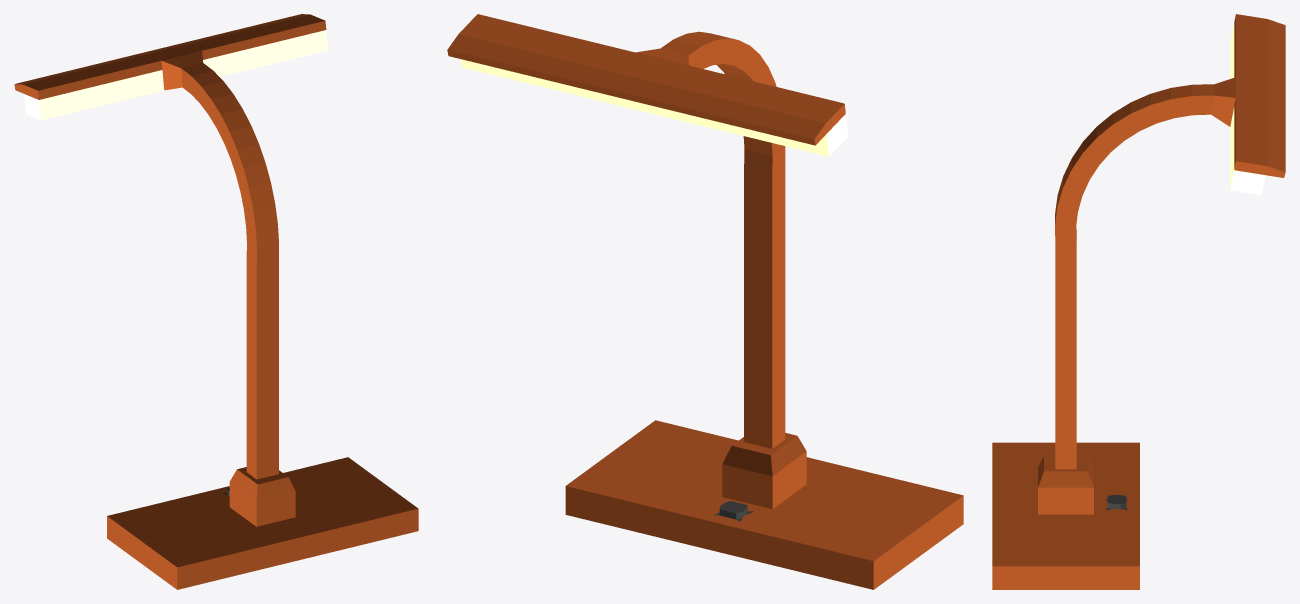
Rendered from Desk Lamp 1.fbx.
3 views of the same model, side by side, from view 1: azimuth 30°, elevation 25°; view 2: azimuth 150°, elevation 25°; view 3: azimuth 270°, elevation 25° (orthographic). The views are drawn at different scales.
Visible parts, largest first — view 1: Node 0, Node 1; view 2: Node 0, Node 1; view 3: Node 0, Node 1.
Boxes of the visible parts, x1,y1,x2,y2 form: Node 0: (14, 14, 418, 589); Node 1: (24, 30, 328, 120); Node 0: (447, 14, 963, 589); Node 1: (461, 59, 848, 156); Node 0: (992, 14, 1285, 589); Node 1: (1230, 23, 1265, 195).
Bounding box in the file's own units: 0.1876 × 0.3107 × 0.2225.
